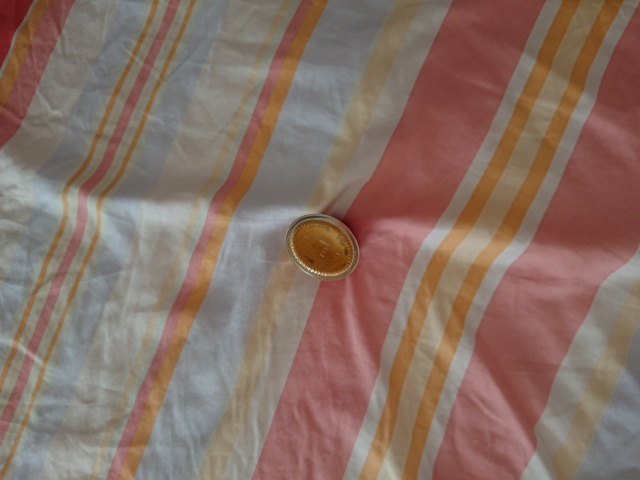Kotanyi Curry Spices Mix 70g: (284, 210, 363, 284)
